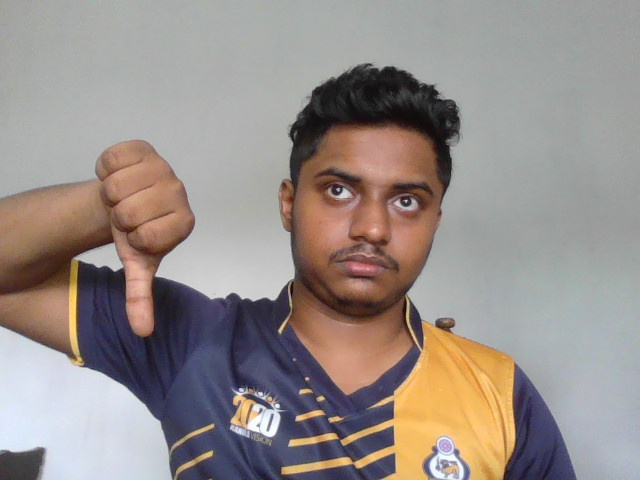Disagree: (94, 138, 197, 340)
